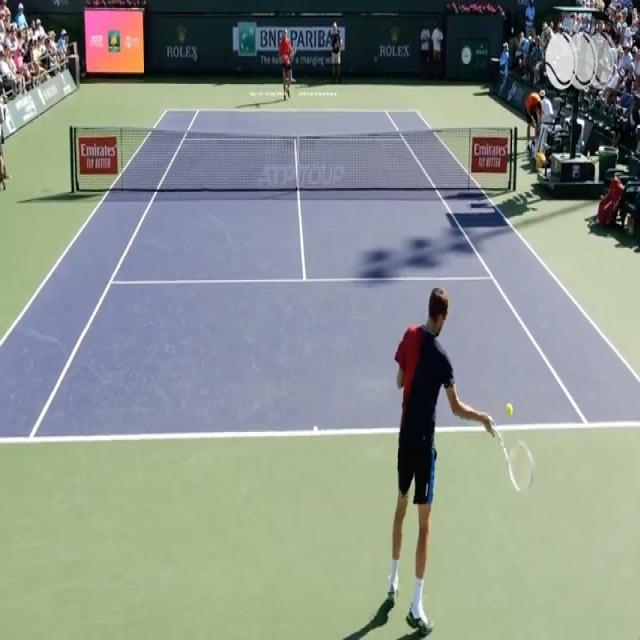forehand-stroke: (390, 289, 534, 632)
